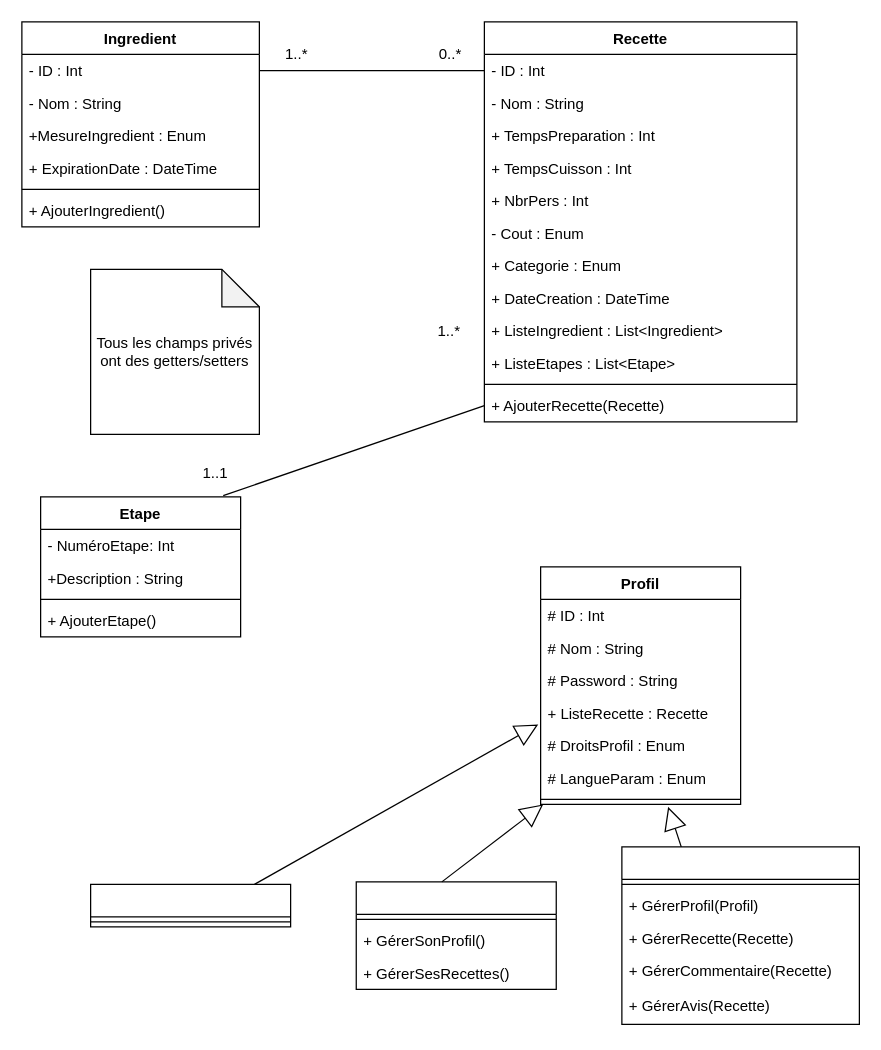
The diagram is 881 pixels wide and 1050 high, and some of its shapes have lost their labels. Here are the shapes that lost their labels. From the top down, the box of each, then its label:
(89, 883, 291, 927): Profil non-connecté
(355, 881, 556, 989): Utilisateur
(621, 846, 859, 1024): Administrateur
